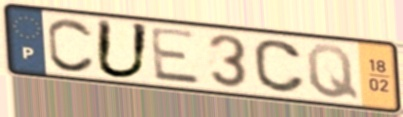3: (206, 32, 249, 90)
C: (251, 37, 309, 96), (45, 15, 97, 75)
E: (147, 25, 204, 87)
Q: (304, 42, 362, 102)
U: (93, 17, 153, 81)
